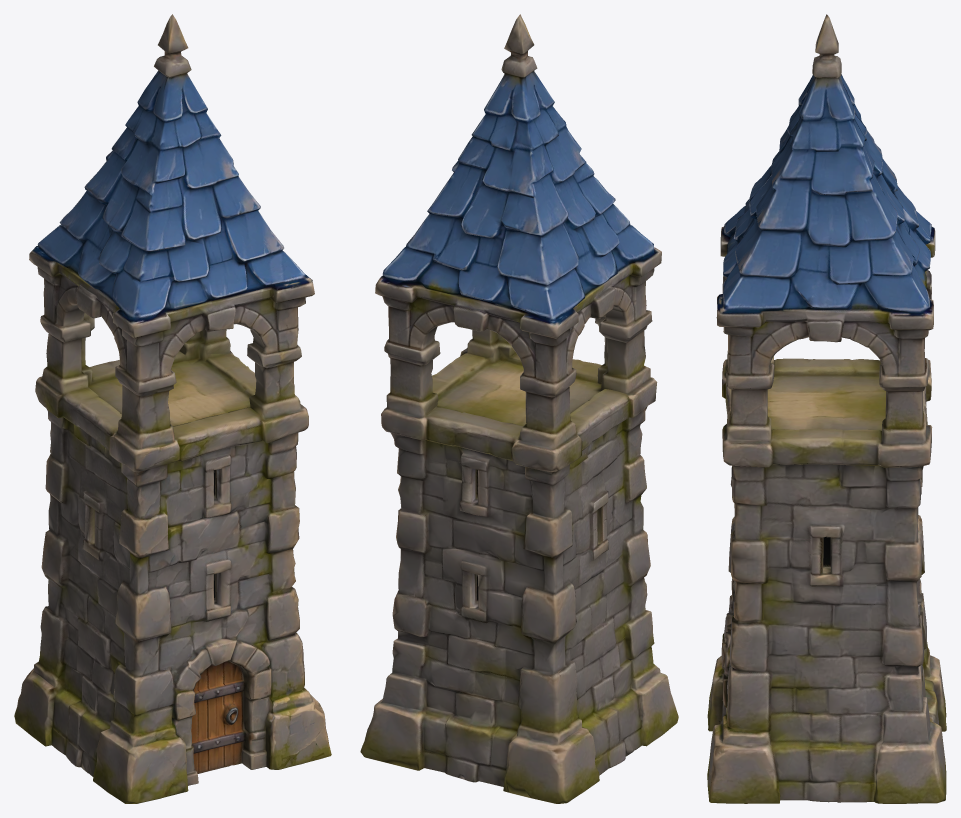
Rendered from belltower.glb.
The picture shows the model from 3 angles, left to right: view 1: azimuth 30°, elevation 25°; view 2: azimuth 150°, elevation 25°; view 3: azimuth 270°, elevation 25°; orthographic projection.
Visible parts, largest first — view 1: belltower; view 2: belltower; view 3: belltower.
Boxes of the visible parts, x1,y1,x2,y2 form: belltower: (14,14,331,803); belltower: (360,14,678,803); belltower: (707,14,946,803).
Size of the model in its own units: 7.21 by 24 by 7.06.
1 material, 1 textured.
